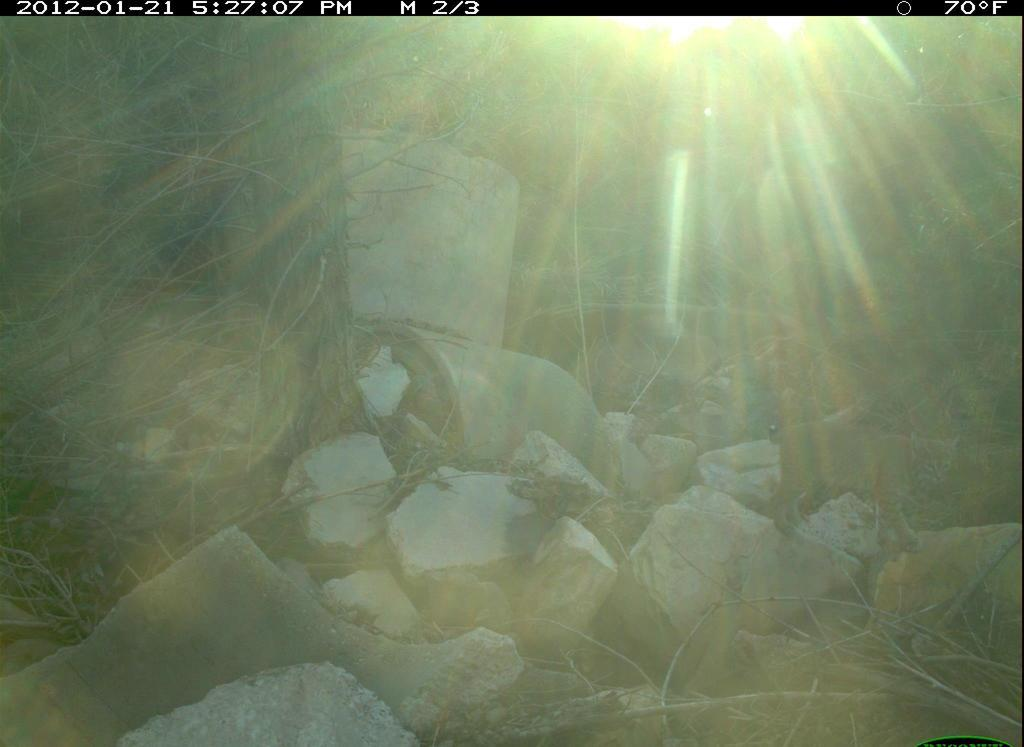bobcat: (743, 408, 969, 566)
